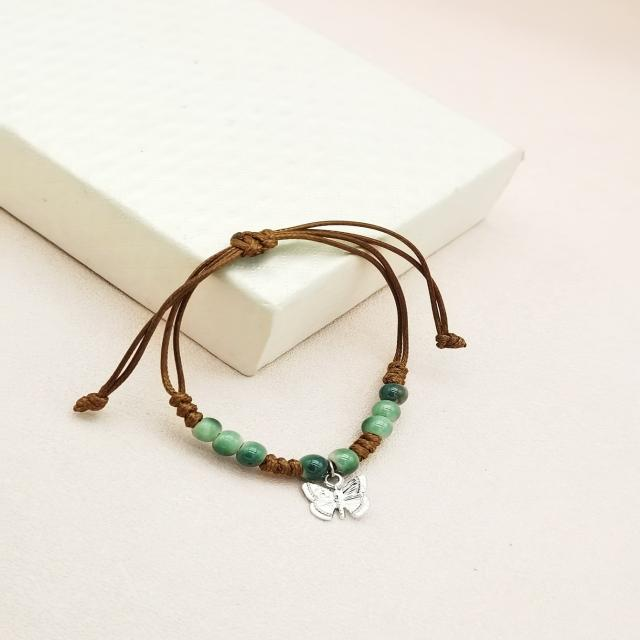bracelet: (16, 187, 575, 555)
